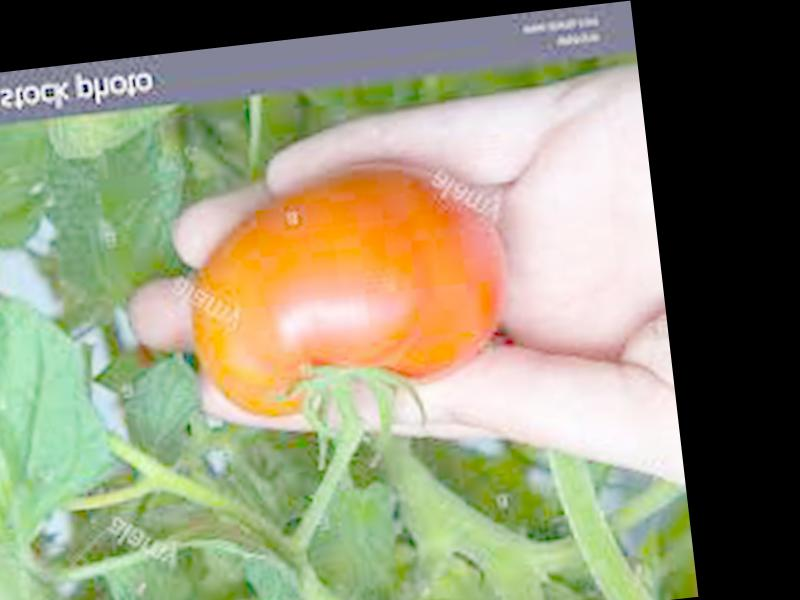Tomato: (177, 157, 523, 425)
